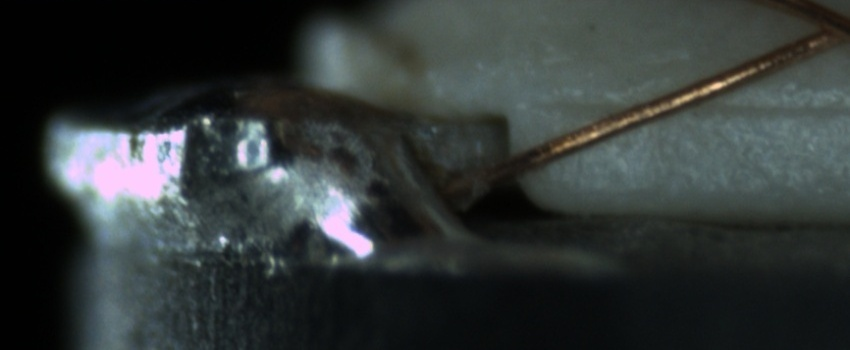CL: (792, 4, 850, 55)
DL: (531, 76, 850, 135)
